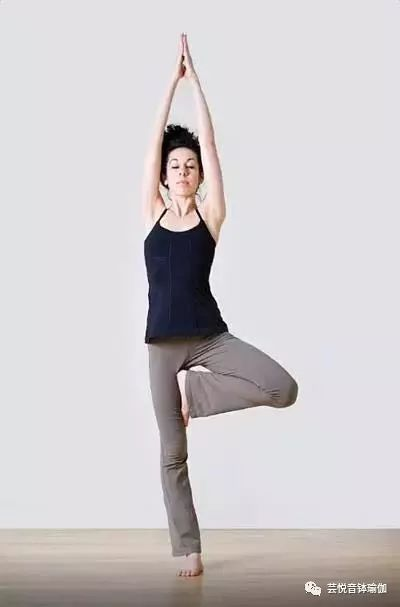handsup: (136, 32, 295, 586)
